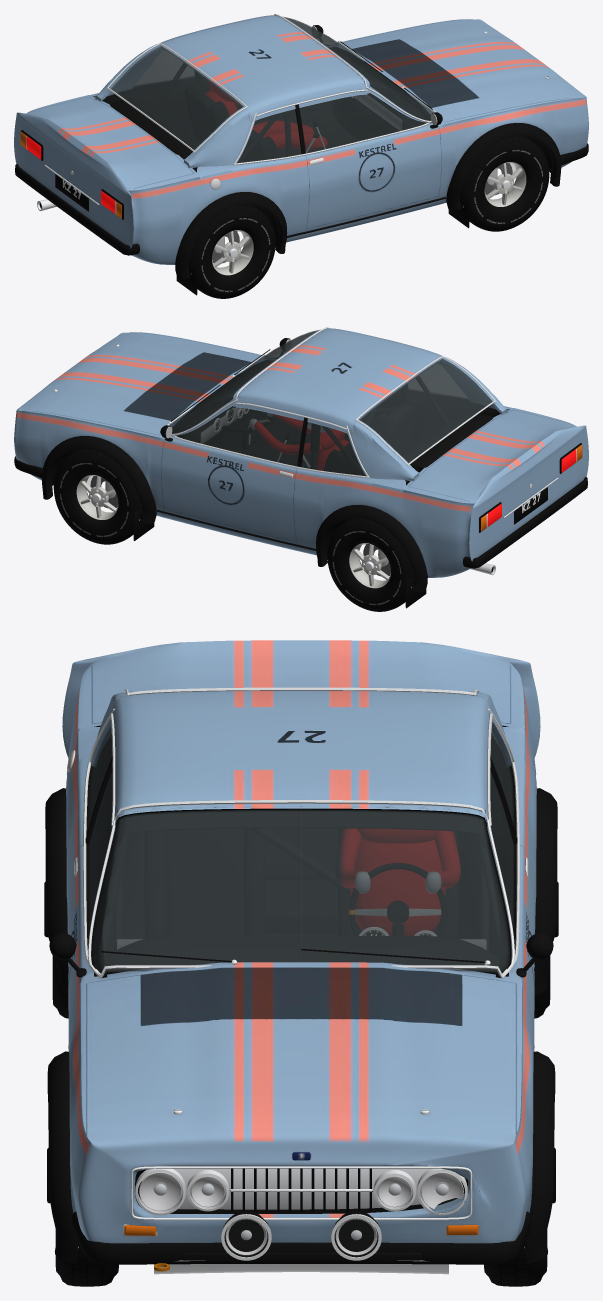
Rendered from kz_kestrel.glb.
3 renders of one model, top to bottom at view 1: azimuth 30°, elevation 25°; view 2: azimuth 150°, elevation 25°; view 3: azimuth 270°, elevation 25°, orthographic. The views are drawn at different scales.
Visible parts, largest first — view 1: body, glass, interior, tyre_FR, tyre_RR, window_R, driver, rim_RR, rim_FR, taillight_lens; view 2: body, glass, interior, tyre_FL, tyre_RL, window_L, driver, rim_RL, rim_FL, taillight_lens; view 3: body, glass, interior, driver, steering_wheel, window_L, window_R, tyre_FL, tyre_FR.
Part boxes in pixels (bbox=[...]): body: bbox=[14, 14, 588, 295]; glass: bbox=[111, 17, 433, 163]; interior: bbox=[110, 52, 426, 162]; tyre_FR: bbox=[460, 136, 549, 231]; tyre_RR: bbox=[188, 205, 275, 298]; window_R: bbox=[299, 93, 426, 153]; driver: bbox=[205, 82, 327, 149]; rim_RR: bbox=[212, 230, 253, 275]; rim_FR: bbox=[484, 162, 526, 206]; taillight_lens: bbox=[26, 136, 115, 213]; body: bbox=[14, 327, 588, 608]; glass: bbox=[169, 330, 491, 476]; interior: bbox=[176, 365, 492, 475]; tyre_FL: bbox=[53, 449, 143, 544]; tyre_RL: bbox=[327, 518, 414, 611]; window_L: bbox=[176, 406, 303, 466]; driver: bbox=[249, 413, 349, 470]; rim_RL: bbox=[349, 543, 390, 588]; rim_FL: bbox=[76, 475, 118, 519]; taillight_lens: bbox=[487, 449, 576, 526]; body: bbox=[44, 640, 558, 1274]; glass: bbox=[89, 726, 513, 1256]; interior: bbox=[97, 812, 508, 972]; driver: bbox=[335, 828, 460, 935]; steering_wheel: bbox=[349, 863, 447, 936]; window_L: bbox=[490, 770, 513, 930]; window_R: bbox=[89, 770, 112, 930]; tyre_FL: bbox=[484, 1231, 547, 1286]; tyre_FR: bbox=[55, 1231, 118, 1286].
Bounding box in the file's own units: 4.15 × 1.47 × 1.92.
12 materials, 7 textured.
